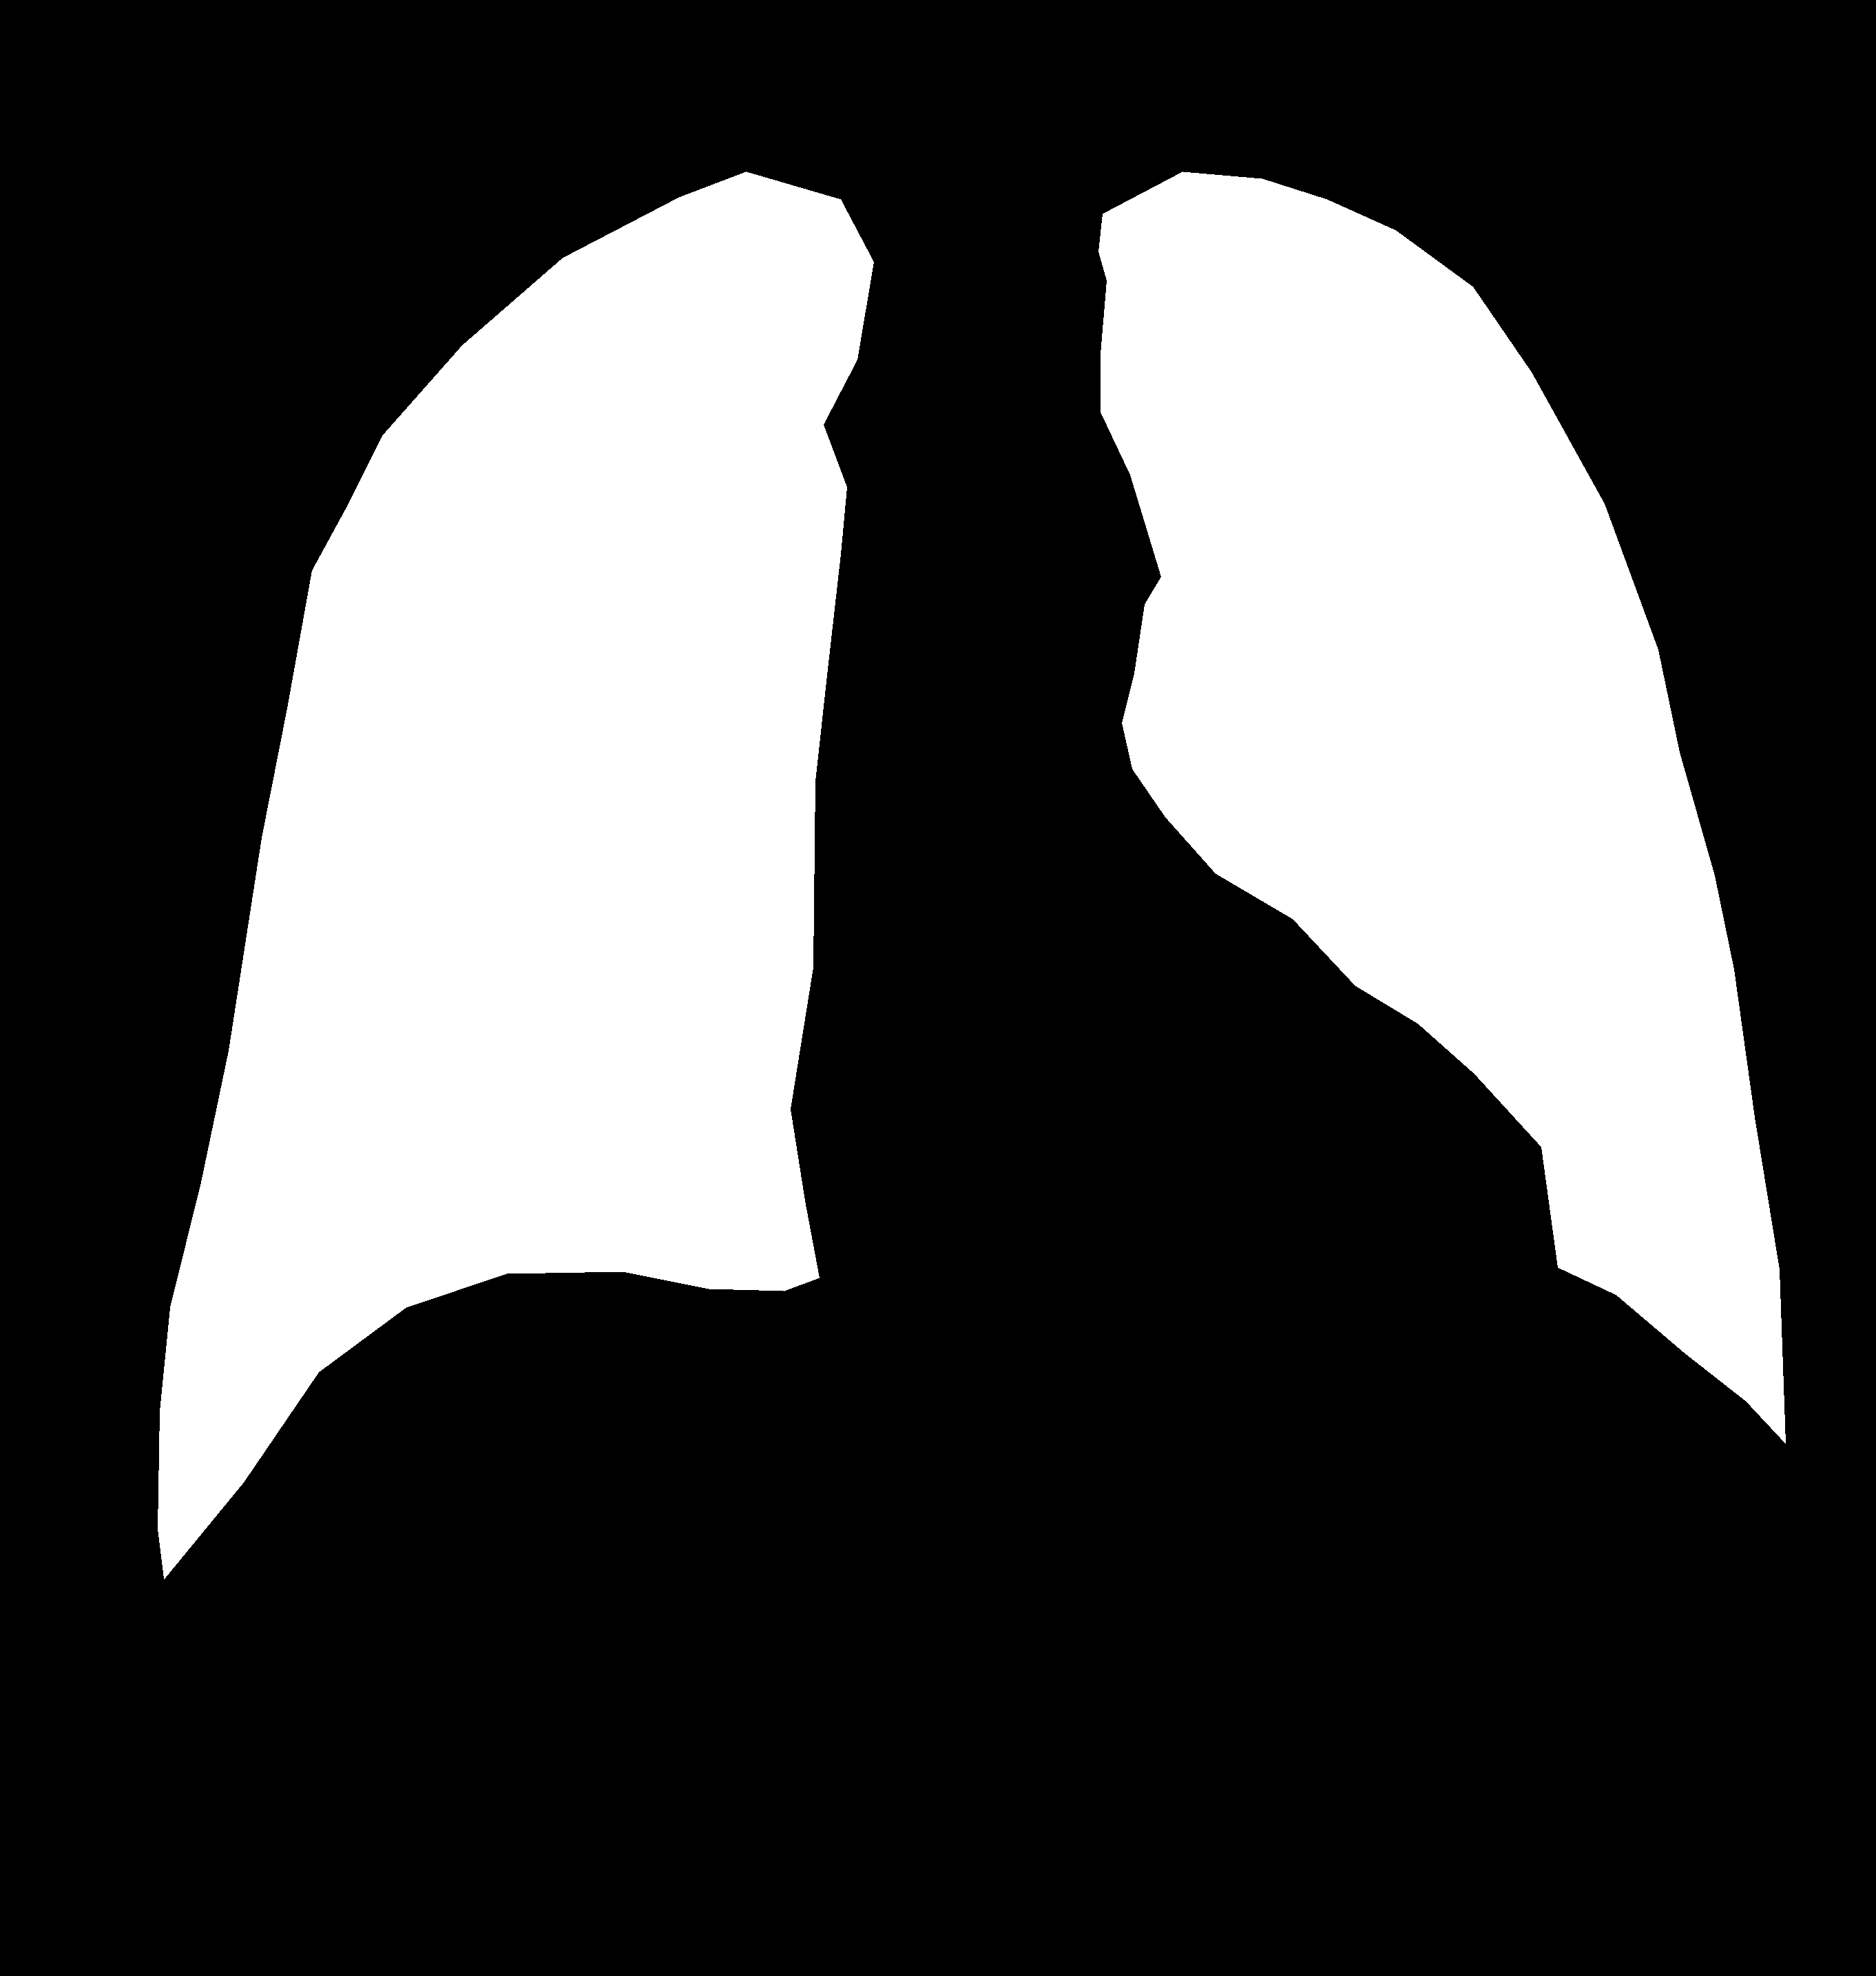heart: (800, 673, 1548, 1370)
left_lung: (157, 171, 873, 1579)
right_lung: (1098, 171, 1784, 1444)
